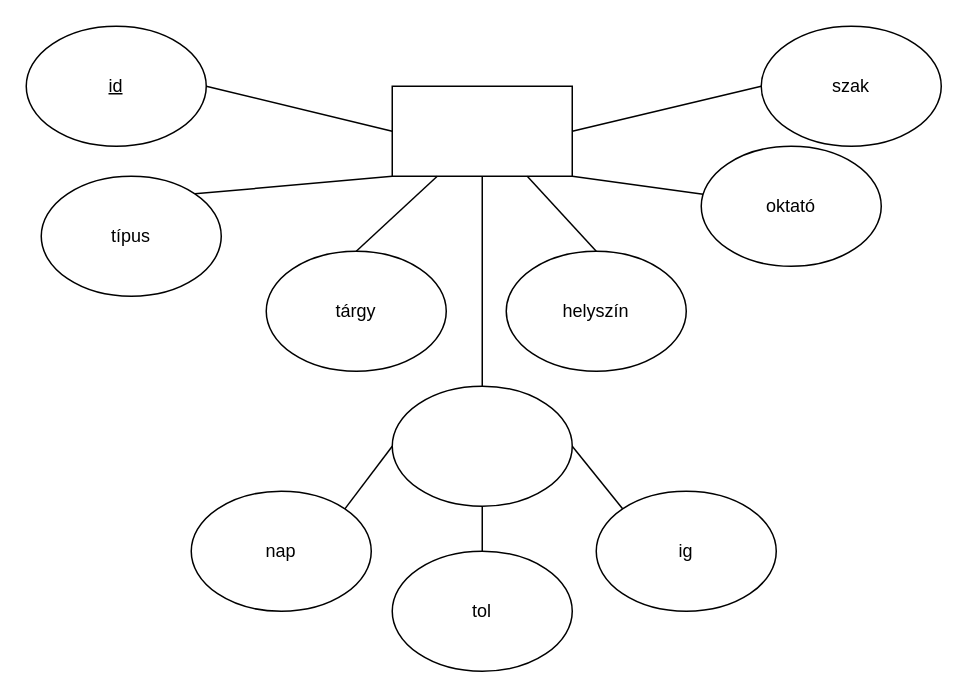
Image size: 968x698. Some labels were removed from this diagram. The centre of each missing label's shape, as x and y in pixels:
"időpont" goes at point 481,445.
"Óra" goes at point 481,130.
